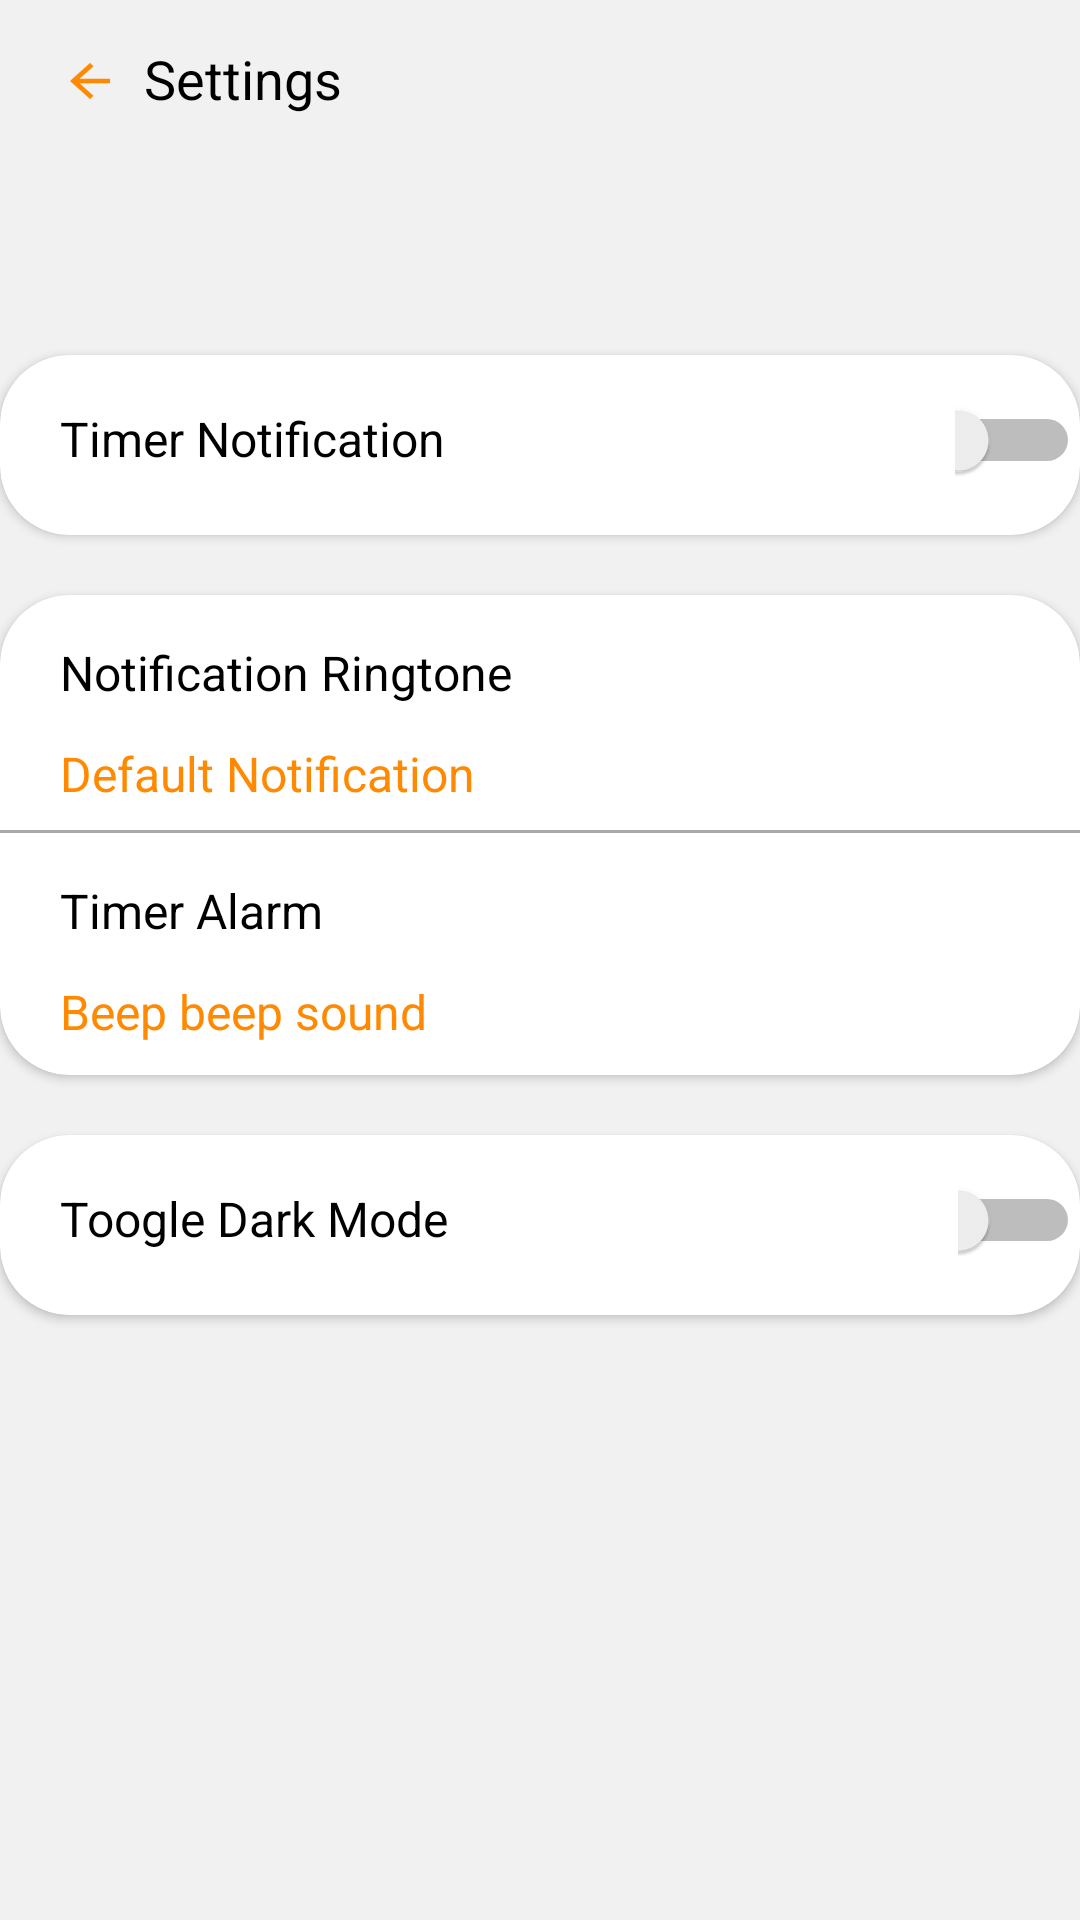

Locate icon controls on the screen. Image size 1080×1920, boxes as (x1, y1, x2, y2).
arrow back: (70, 63, 110, 99)
